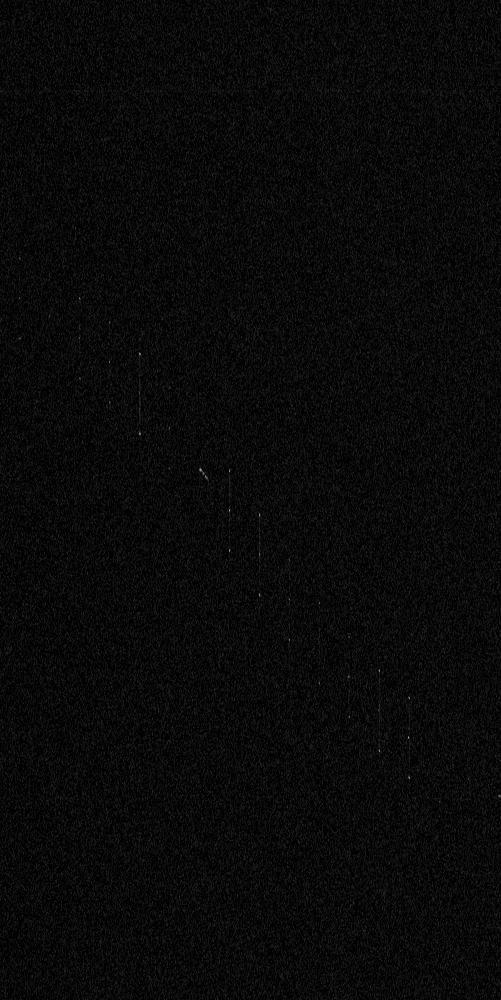signal: (0, 0, 500, 999)
